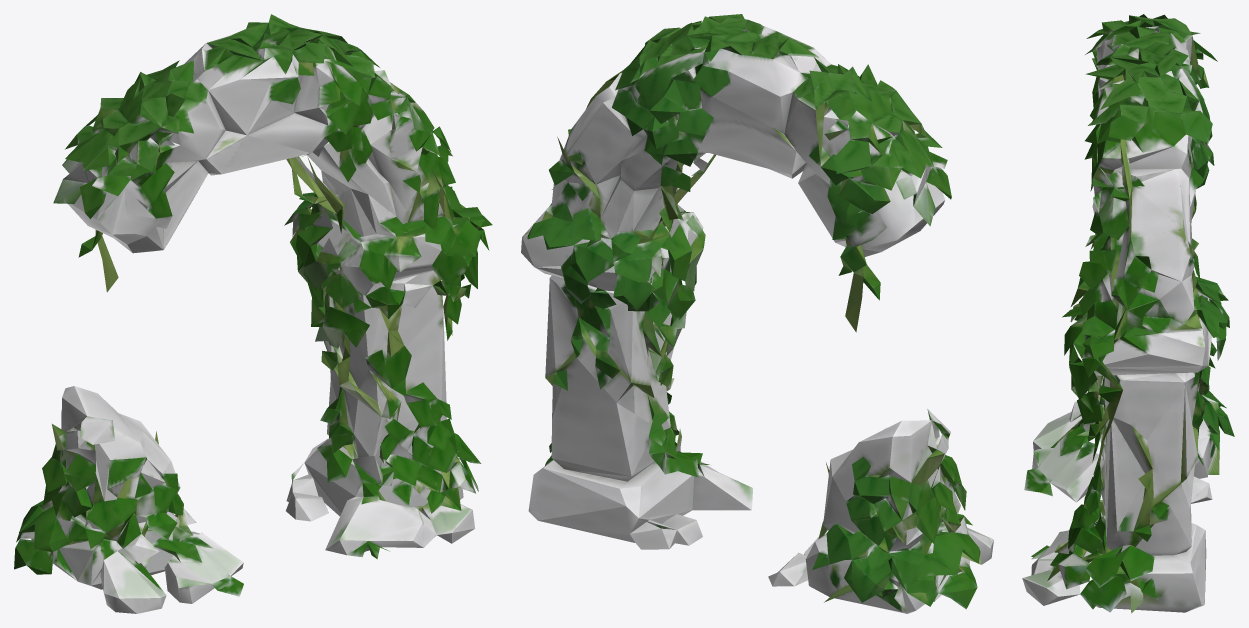
3 views of the same model, side by side, from view 1: azimuth 30°, elevation 25°; view 2: azimuth 150°, elevation 25°; view 3: azimuth 270°, elevation 25° (orthographic). The views are drawn at different scales.
Size of the model in its own units: 1.75 by 1.9 by 0.7536.
1 material, 1 textured.
